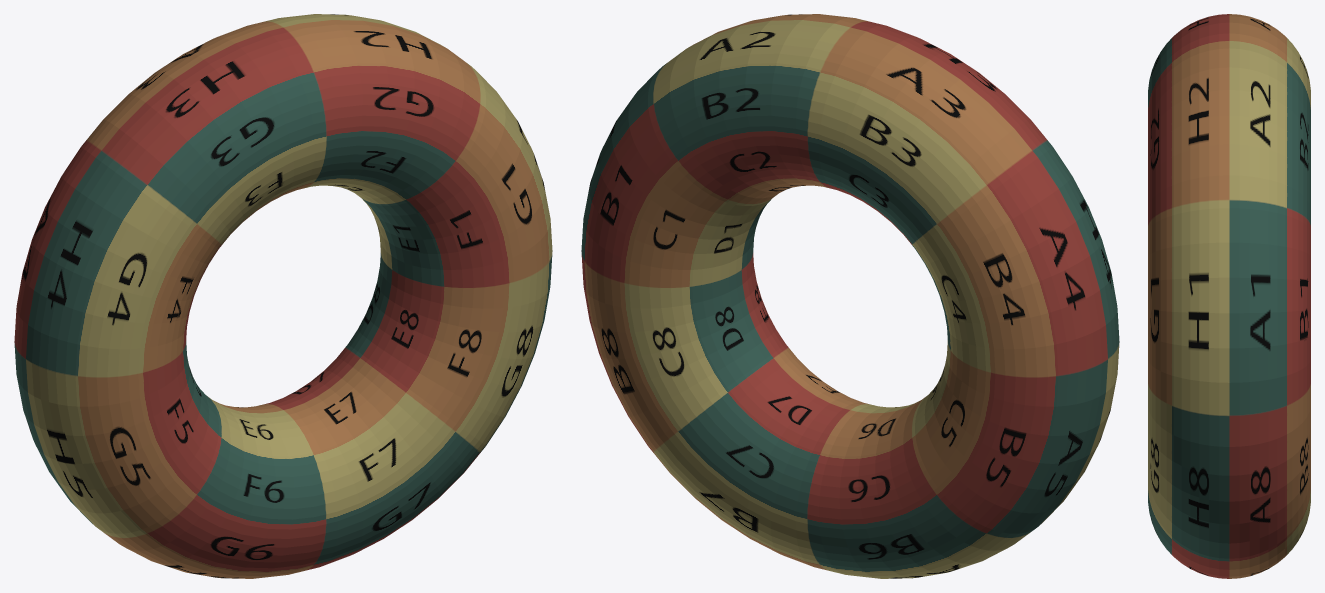
Rendered from texture_torus_R18_r26.glb.
3 renders of one model, left to right at view 1: azimuth 30°, elevation 25°; view 2: azimuth 150°, elevation 25°; view 3: azimuth 270°, elevation 25°, orthographic. The views are drawn at different scales.
Visible parts, largest first — view 1: world; view 2: world; view 3: world.
Boxes of the visible parts, box(x1,y1,x2,y2) form: world: box(14, 14, 552, 578); world: box(581, 14, 1119, 578); world: box(1148, 14, 1310, 578).
Bounding box in the file's own units: 30.93 × 30.87 × 8.92.
1 material, 1 textured.
